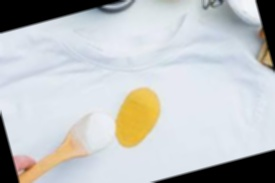mustard: (116, 82, 168, 146), (114, 109, 138, 151), (115, 123, 142, 145)
